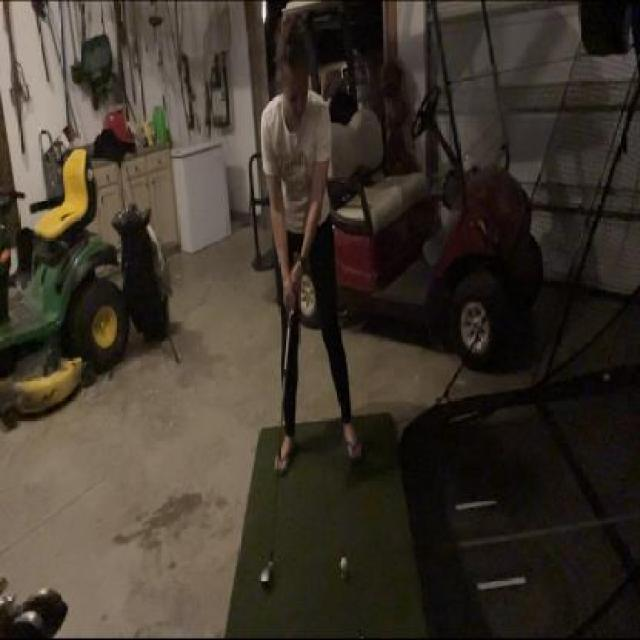club head: (258, 548, 274, 590)
